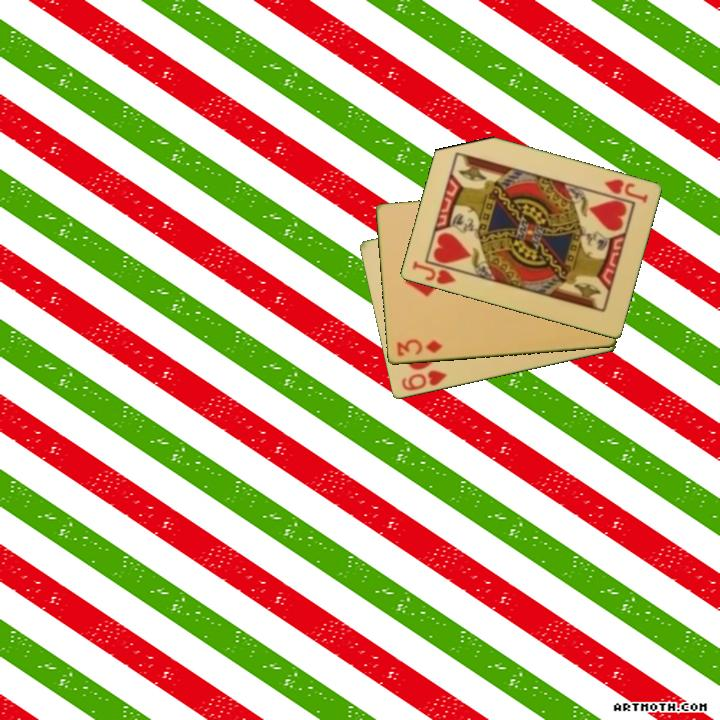3d: (393, 336, 445, 359)
6h: (398, 367, 450, 394)
Jh: (408, 258, 459, 288), (601, 176, 651, 206)
